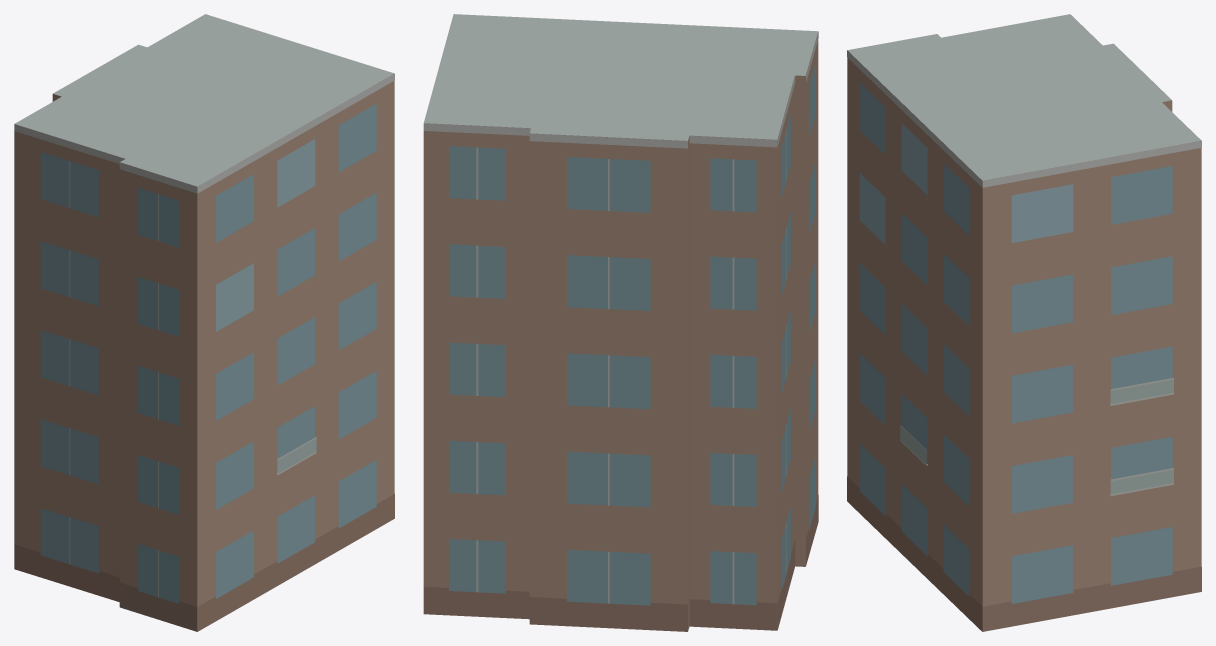
Rendered from survey-upis-32616698.glb.
3 views of the same model, side by side, from view 1: azimuth 30°, elevation 25°; view 2: azimuth 150°, elevation 25°; view 3: azimuth 270°, elevation 25° (orthographic). The views are drawn at different scales.
Parts seen in each view (by area): view 1: survey-upis-32616698.tmp; view 2: survey-upis-32616698.tmp; view 3: survey-upis-32616698.tmp.
Part boxes in pixels (box(x1,y1,x2,y2)): survey-upis-32616698.tmp: box(14, 14, 394, 631); survey-upis-32616698.tmp: box(423, 14, 818, 631); survey-upis-32616698.tmp: box(847, 14, 1201, 631).
Size of the model in its own units: 12.29 by 15.5 by 11.05.
